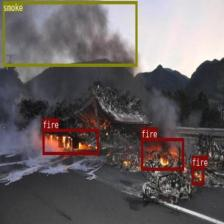fire: (42, 128, 99, 154), (141, 138, 183, 170), (191, 166, 204, 184)
smoke: (3, 0, 137, 66)
